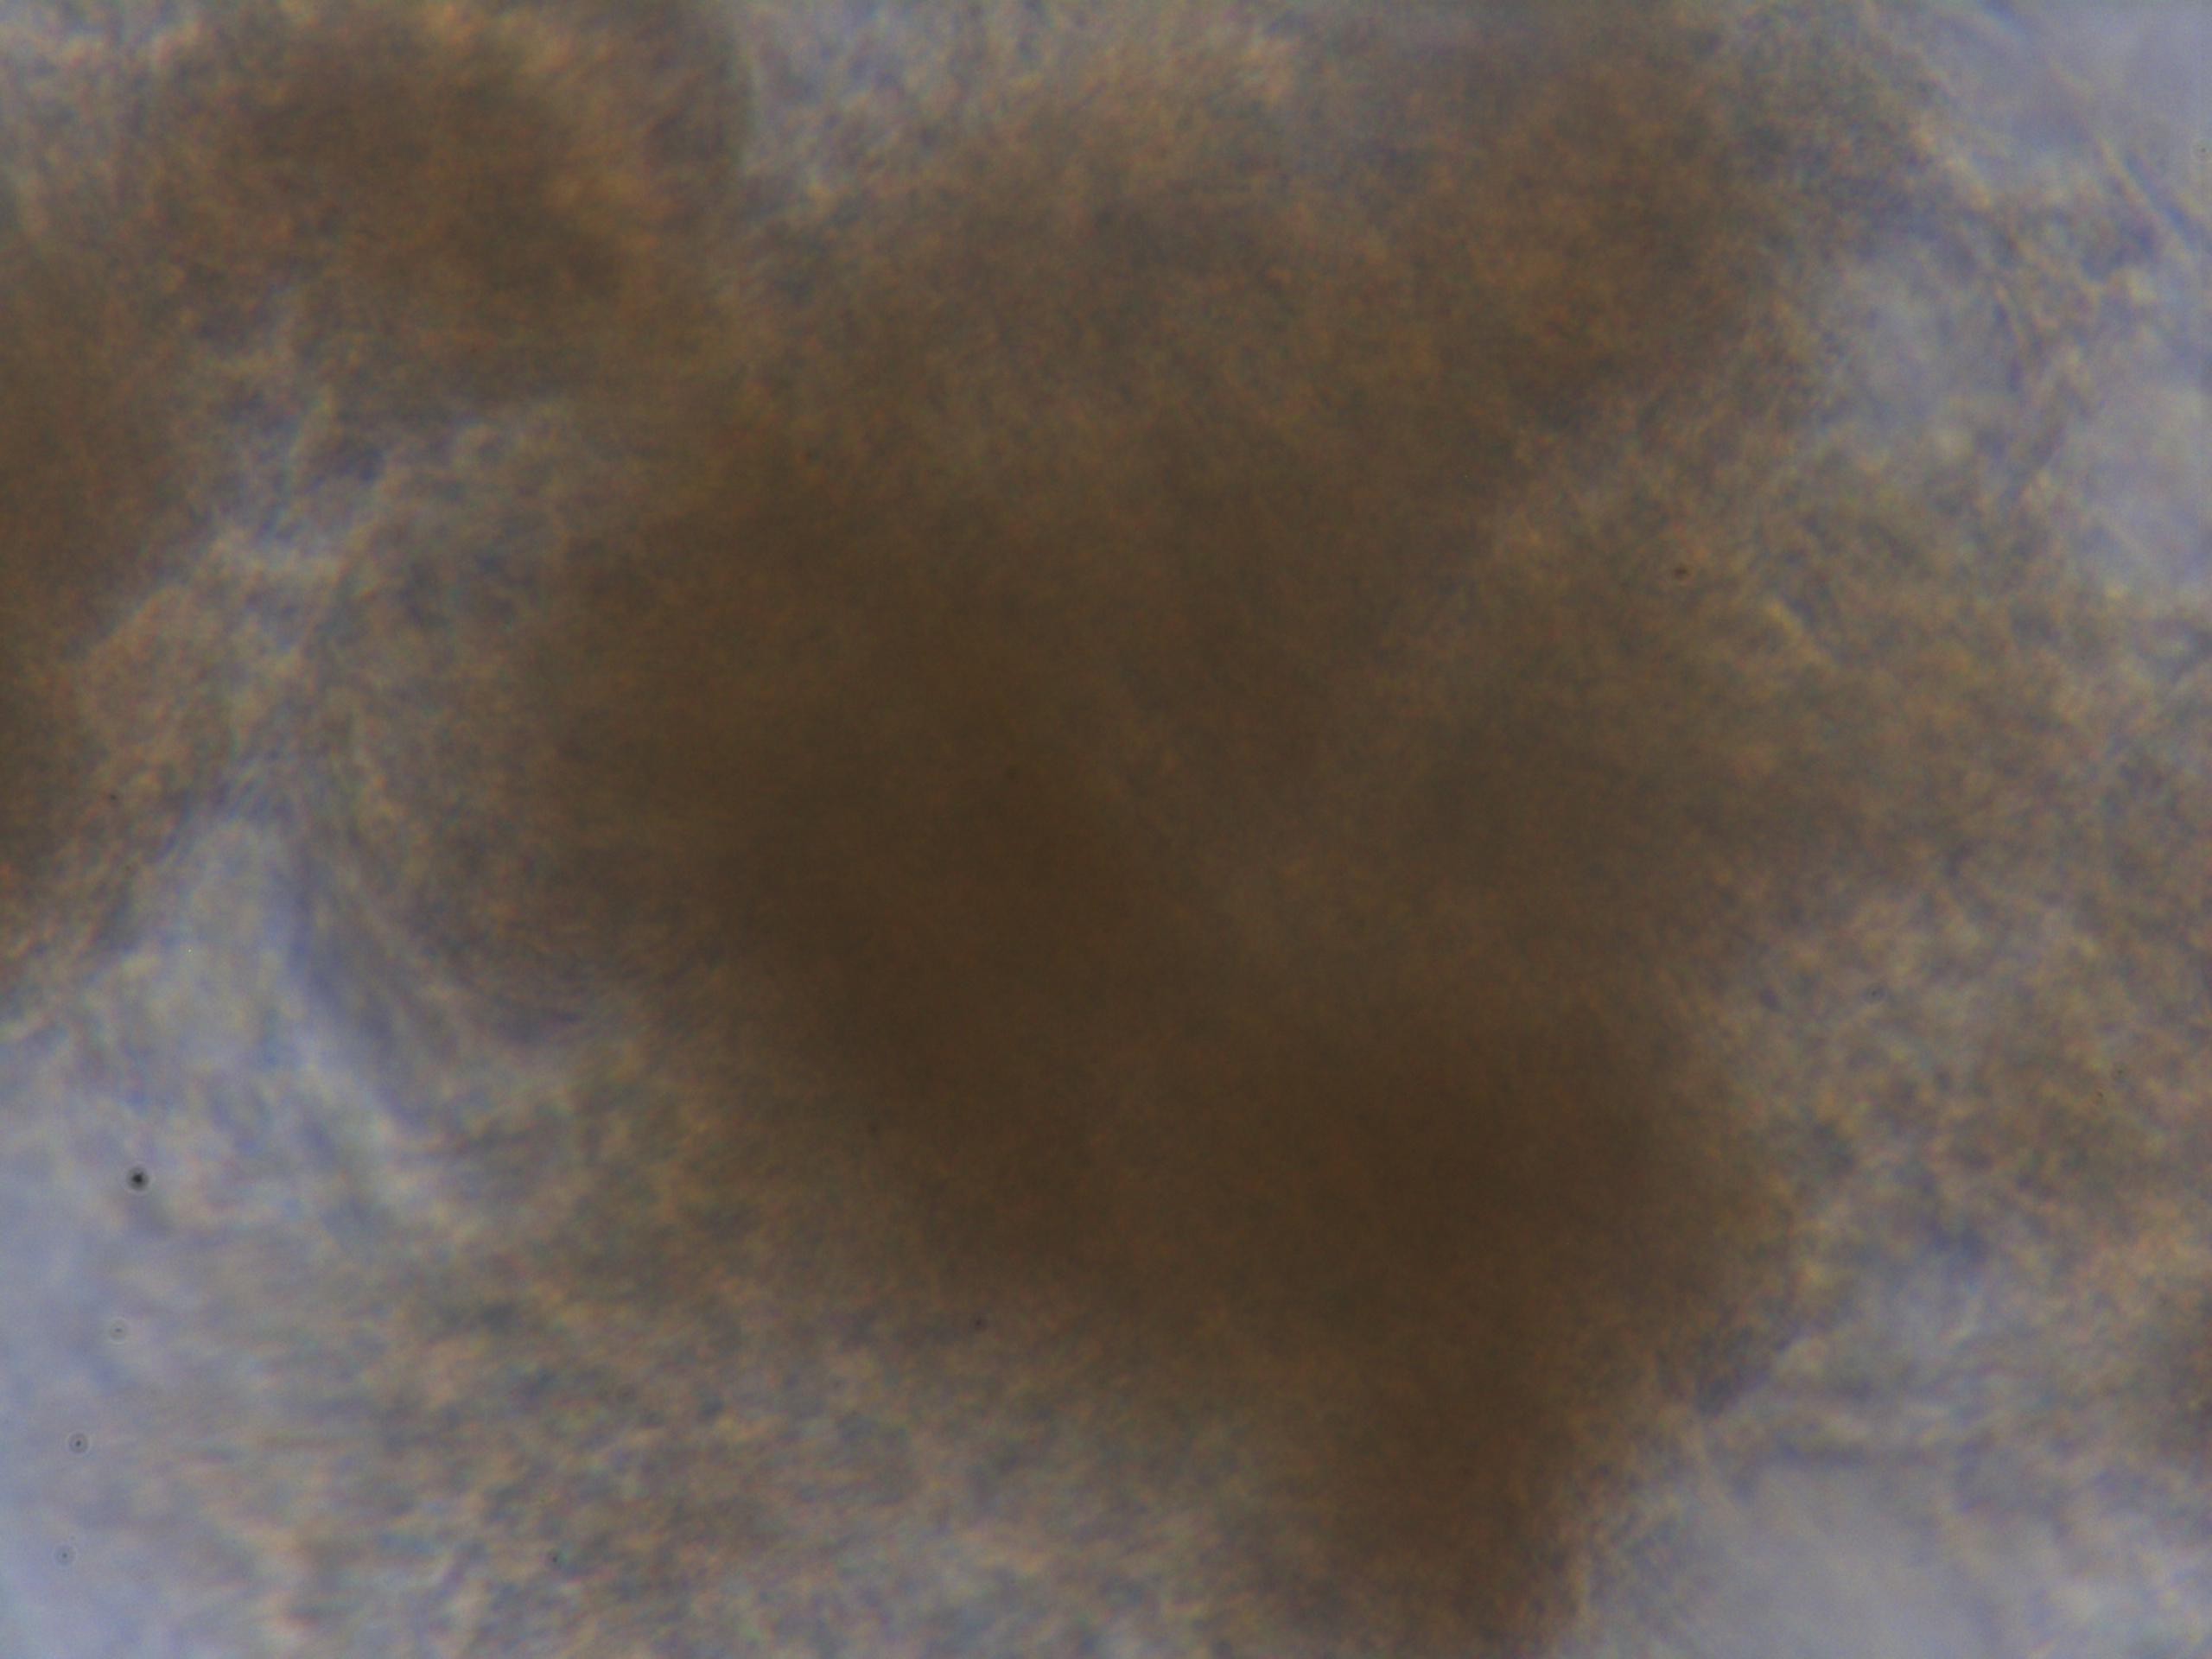spherical_floc: (193, 0, 1989, 1659)
